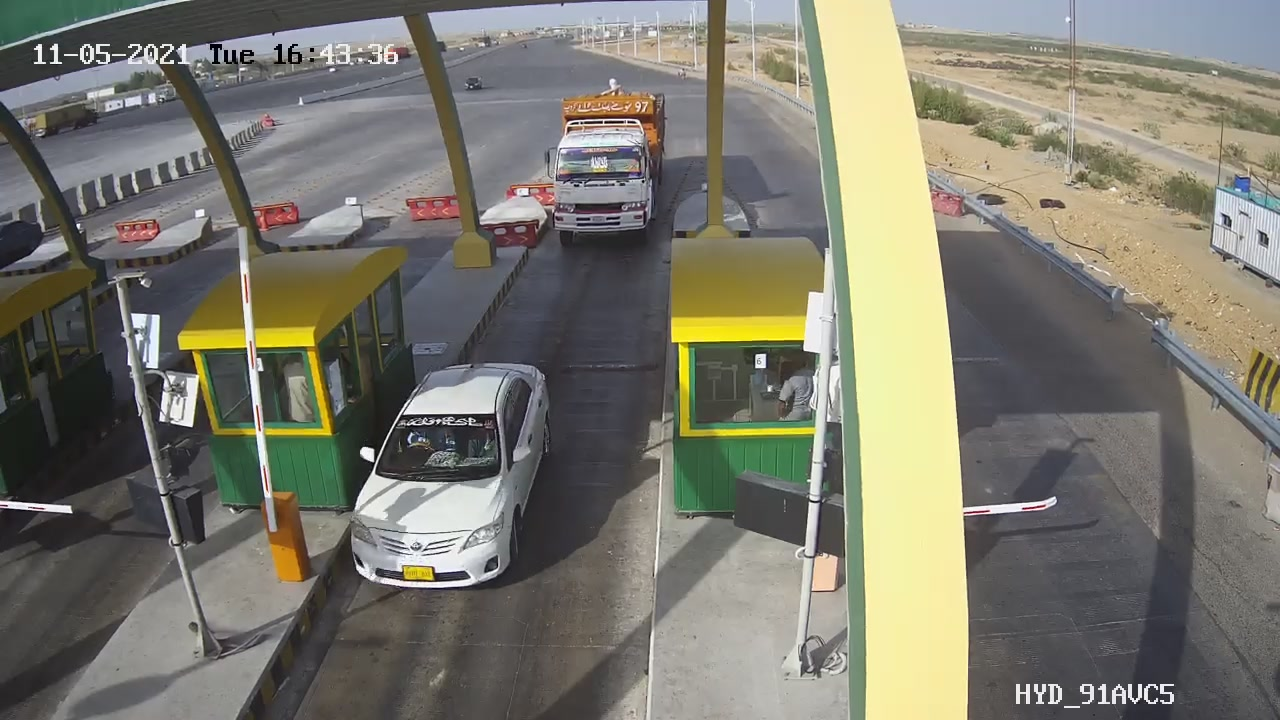F1: (314, 337, 580, 619)
